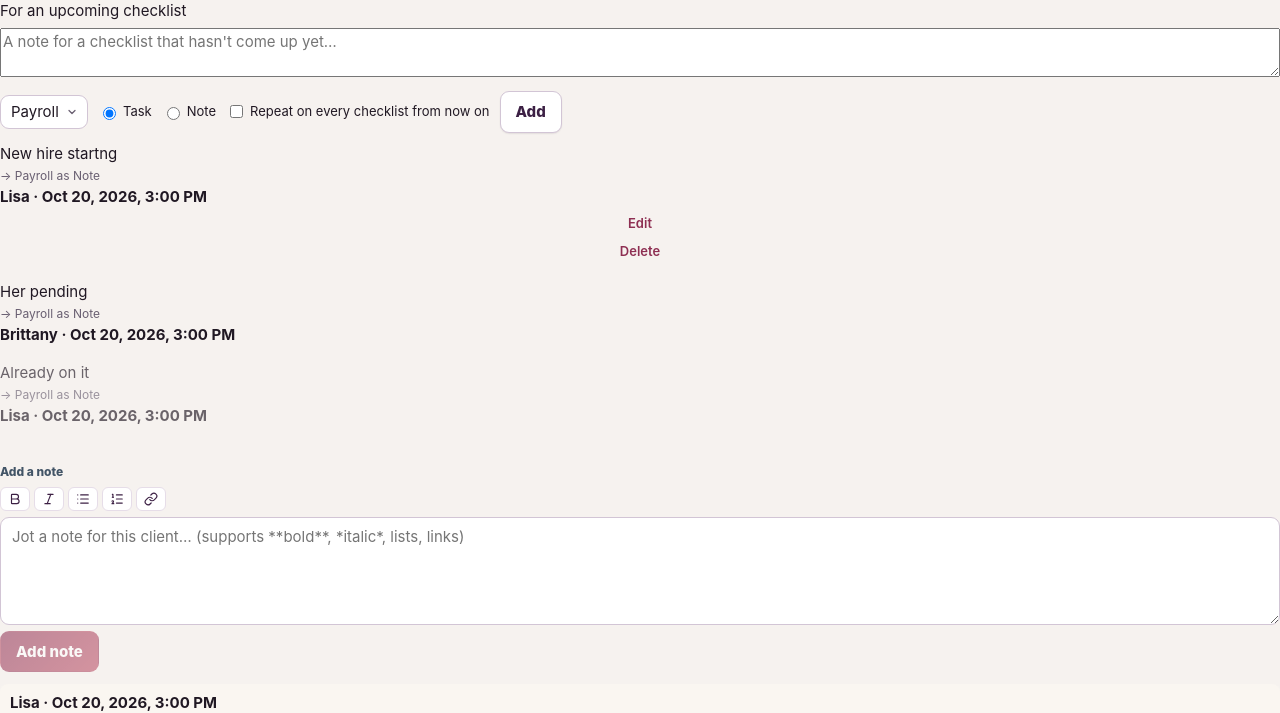
pending notes › save sends the new words and shows the note with an "edited" marker
Check: the list item "New hire startng" is shown, box x1=0 y1=144 x2=117 y2=163
Click the button "Edit" below "New hire startng" at (640, 223), box x1=0 y1=210 x2=1279 y2=236
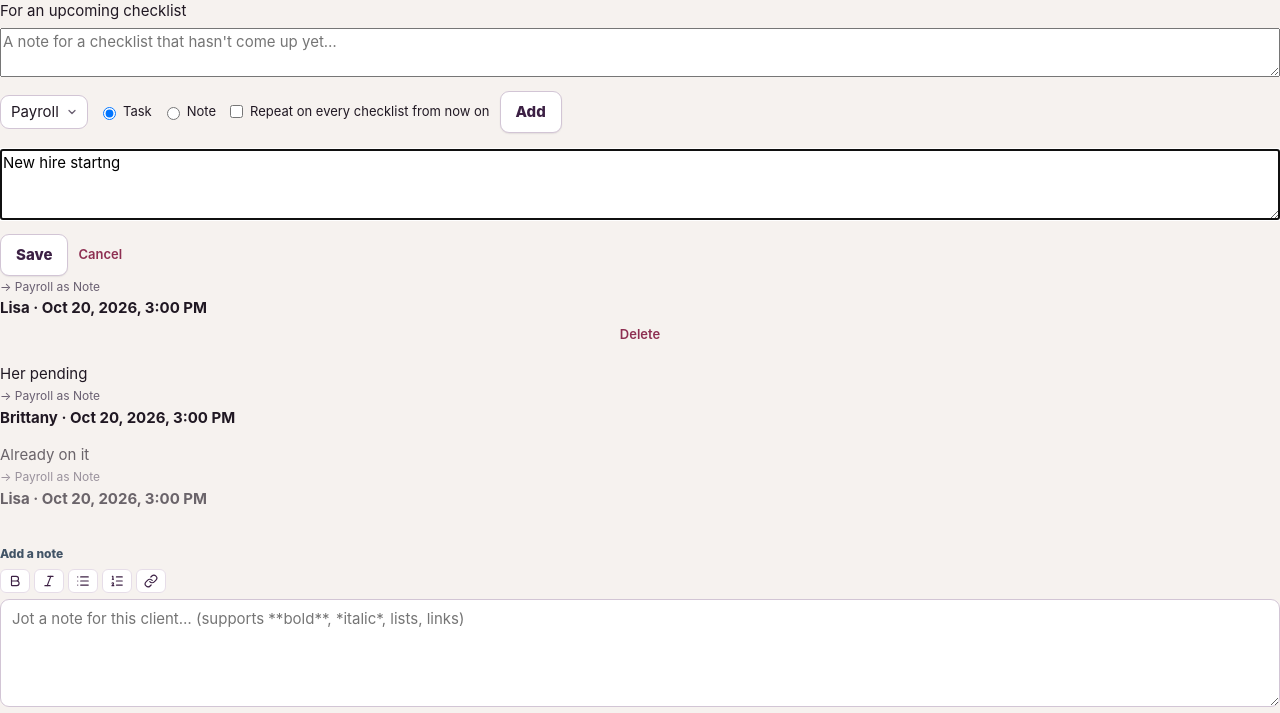
Replace the text in the text box named "Edit note" with "New hire starting" at (640, 184), box x1=0 y1=149 x2=1279 y2=220
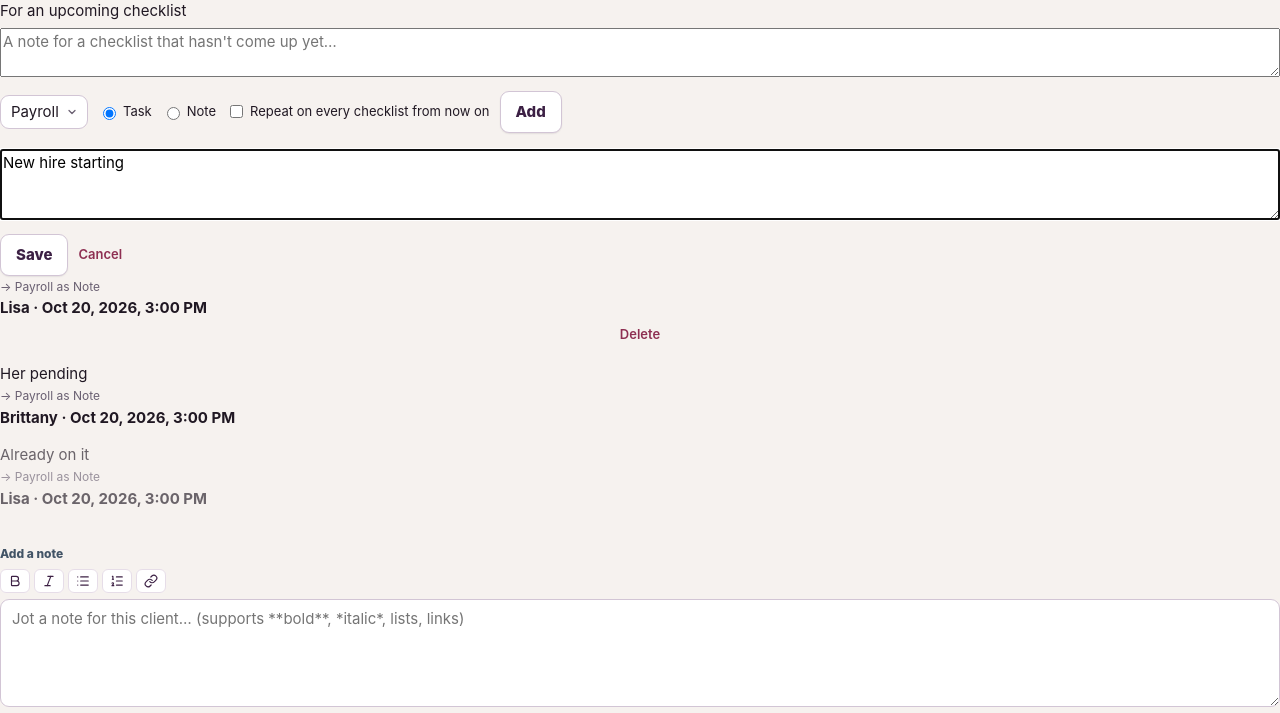
Click the button "Save" at (34, 255), box x1=0 y1=234 x2=68 y2=276
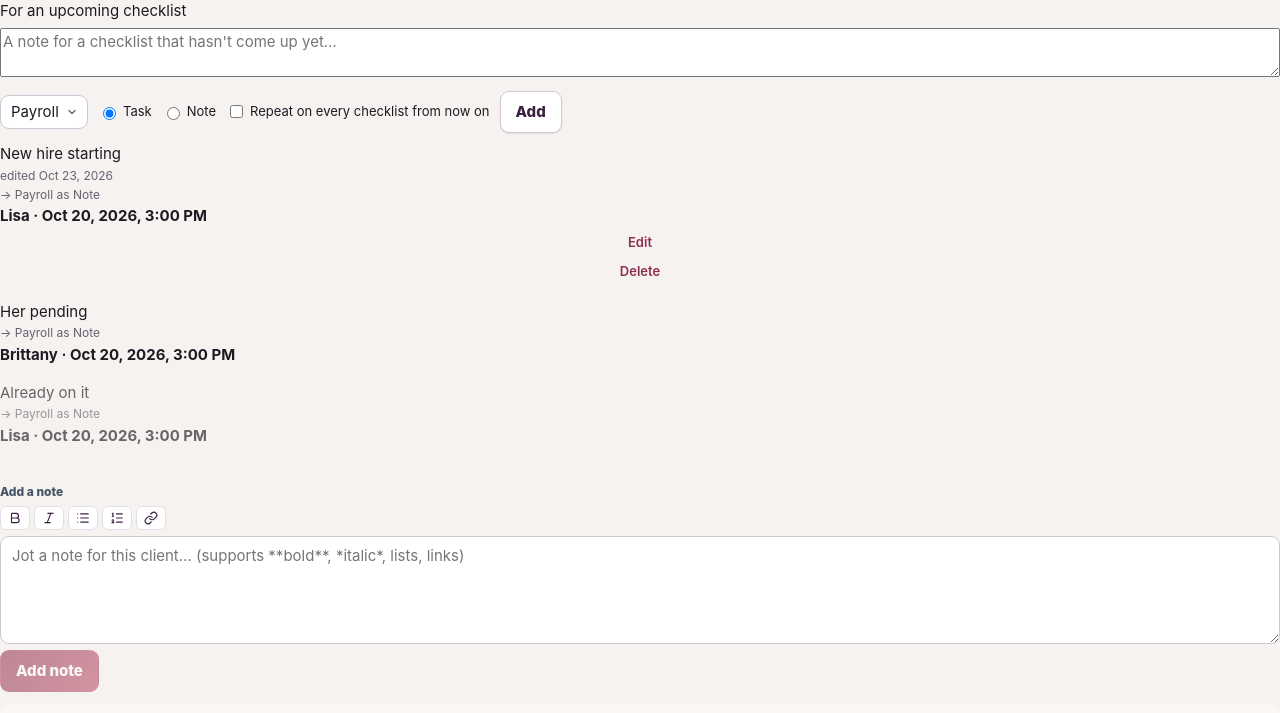
Check: the list item "New hire startng" is shown, box x1=0 y1=143 x2=1279 y2=293
Check: the text "edited Oct 23, 2026" is shown, box x1=0 y1=168 x2=113 y2=182
